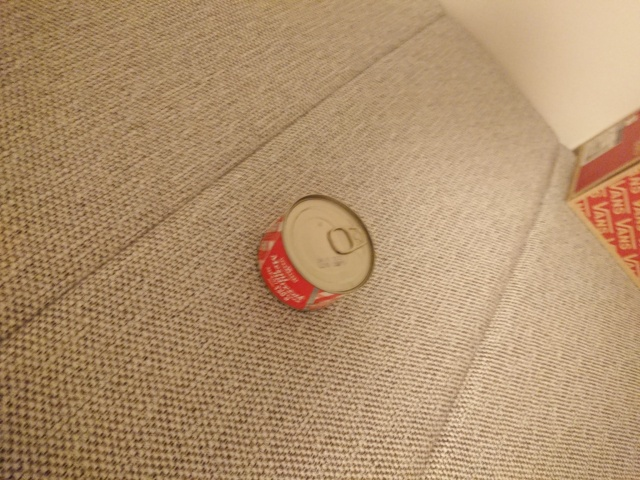Podravka Luncheon Meat 150g: (253, 191, 377, 315)
